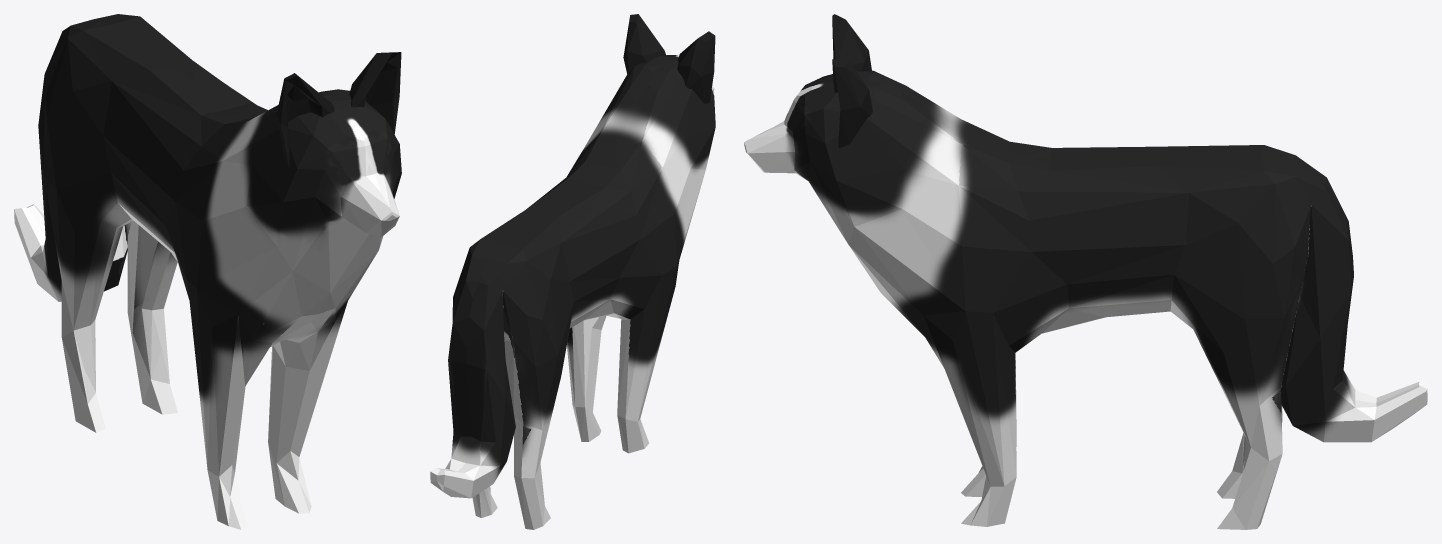
The model's file is border_collie.glb.
3 renders of one model, left to right at view 1: azimuth 30°, elevation 25°; view 2: azimuth 150°, elevation 25°; view 3: azimuth 270°, elevation 25°, orthographic. The views are drawn at different scales.
Parts seen in each view (by area): view 1: Cube.001; view 2: Cube.001; view 3: Cube.001.
Part boxes in pixels (x1,y1,x2,y2): Cube.001: (14,14,401,529); Cube.001: (430,14,715,529); Cube.001: (744,14,1427,529).
Bounding box in the file's own units: 0.2468 × 0.7934 × 1.04.
2 materials, 1 textured.
